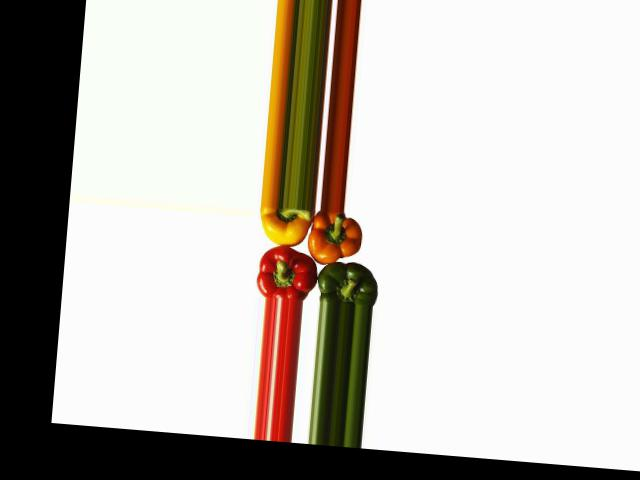bell_pepper: (256, 204, 317, 251)
